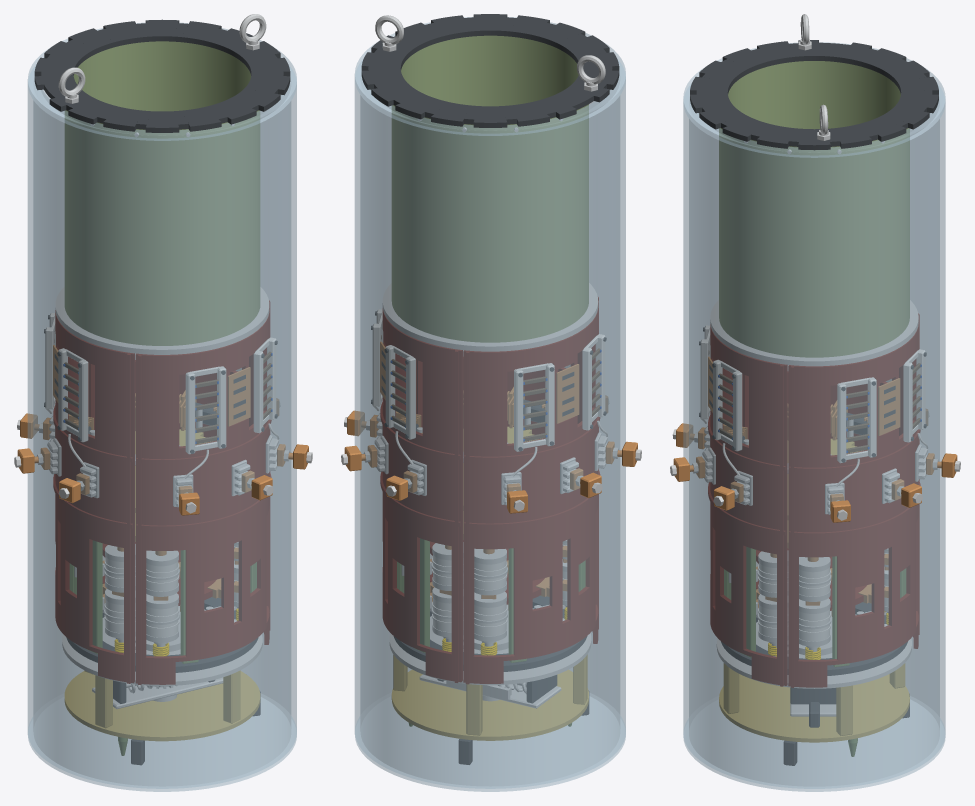
The model's file is sdzv-insert.glb.
3 renders of one model, left to right at view 1: azimuth 30°, elevation 25°; view 2: azimuth 150°, elevation 25°; view 3: azimuth 270°, elevation 25°, orthographic. The views are drawn at different scales.
Visible parts, largest first — view 1: comp, ins-frame, accum, resistor, vi, comp-term, ins-term, ins-cam, lift, transfer, main-contact; view 2: comp, ins-frame, accum, resistor, vi, comp-term, ins-term, ins-cam, lift, transfer, main-contact; view 3: comp, ins-frame, accum, resistor, vi, comp-term, ins-term, ins-cam, main-contact, transfer, lift.
Part boxes in pixels (x1,y1,x2,y2): comp: (27,22,296,791); ins-frame: (34,19,290,765); accum: (62,606,262,741); resistor: (44,313,279,478); vi: (102,542,238,646); comp-term: (14,398,312,515); ins-term: (47,416,278,507); ins-cam: (66,597,258,672); lift: (58,14,266,103); transfer: (74,542,238,611); main-contact: (68,390,216,435); comp: (354,17,625,791); ins-frame: (361,14,619,764); accum: (389,604,591,740); resistor: (371,309,607,476); vi: (430,540,567,646); comp-term: (341,396,641,513); ins-term: (374,413,607,505); ins-cam: (393,596,587,671); lift: (375,15,605,91); transfer: (401,540,567,609); main-contact: (396,387,545,433); comp: (683,42,945,791); ins-frame: (690,40,938,765); accum: (716,611,911,742); resistor: (699,325,927,486); vi: (756,548,888,651); comp-term: (670,409,960,522); ins-term: (702,426,927,514); ins-cam: (721,602,907,675); main-contact: (723,400,867,445); transfer: (728,549,888,616); lift: (798,14,830,140).
Bounding box in the file's own units: 0.5301 × 1.36 × 0.5301.
